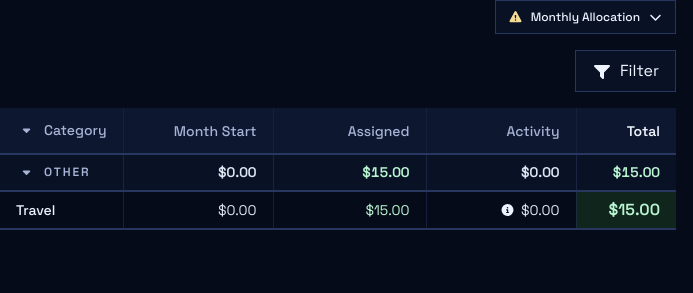
budget month navigation › shows funding and allocation subtotals for a saved month
Expected: the 1st picture is shown, [508, 11, 523, 23]
Click the heading "Monthly Allocation" at [585, 17], box [495, 0, 676, 34]
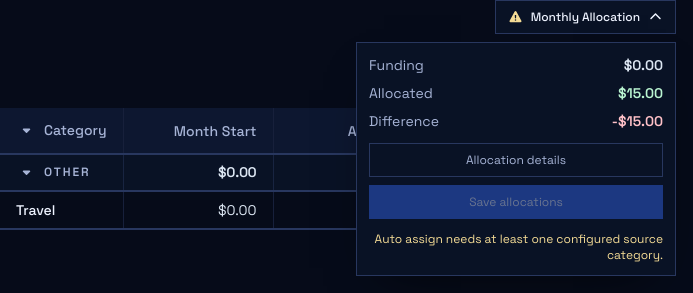
Expected: the text "Funding" is shown, [369, 55, 424, 75]
Expected: the text "Allocated" is shown, [369, 83, 433, 103]
Expected: the text "Difference" is shown, [369, 111, 439, 131]
